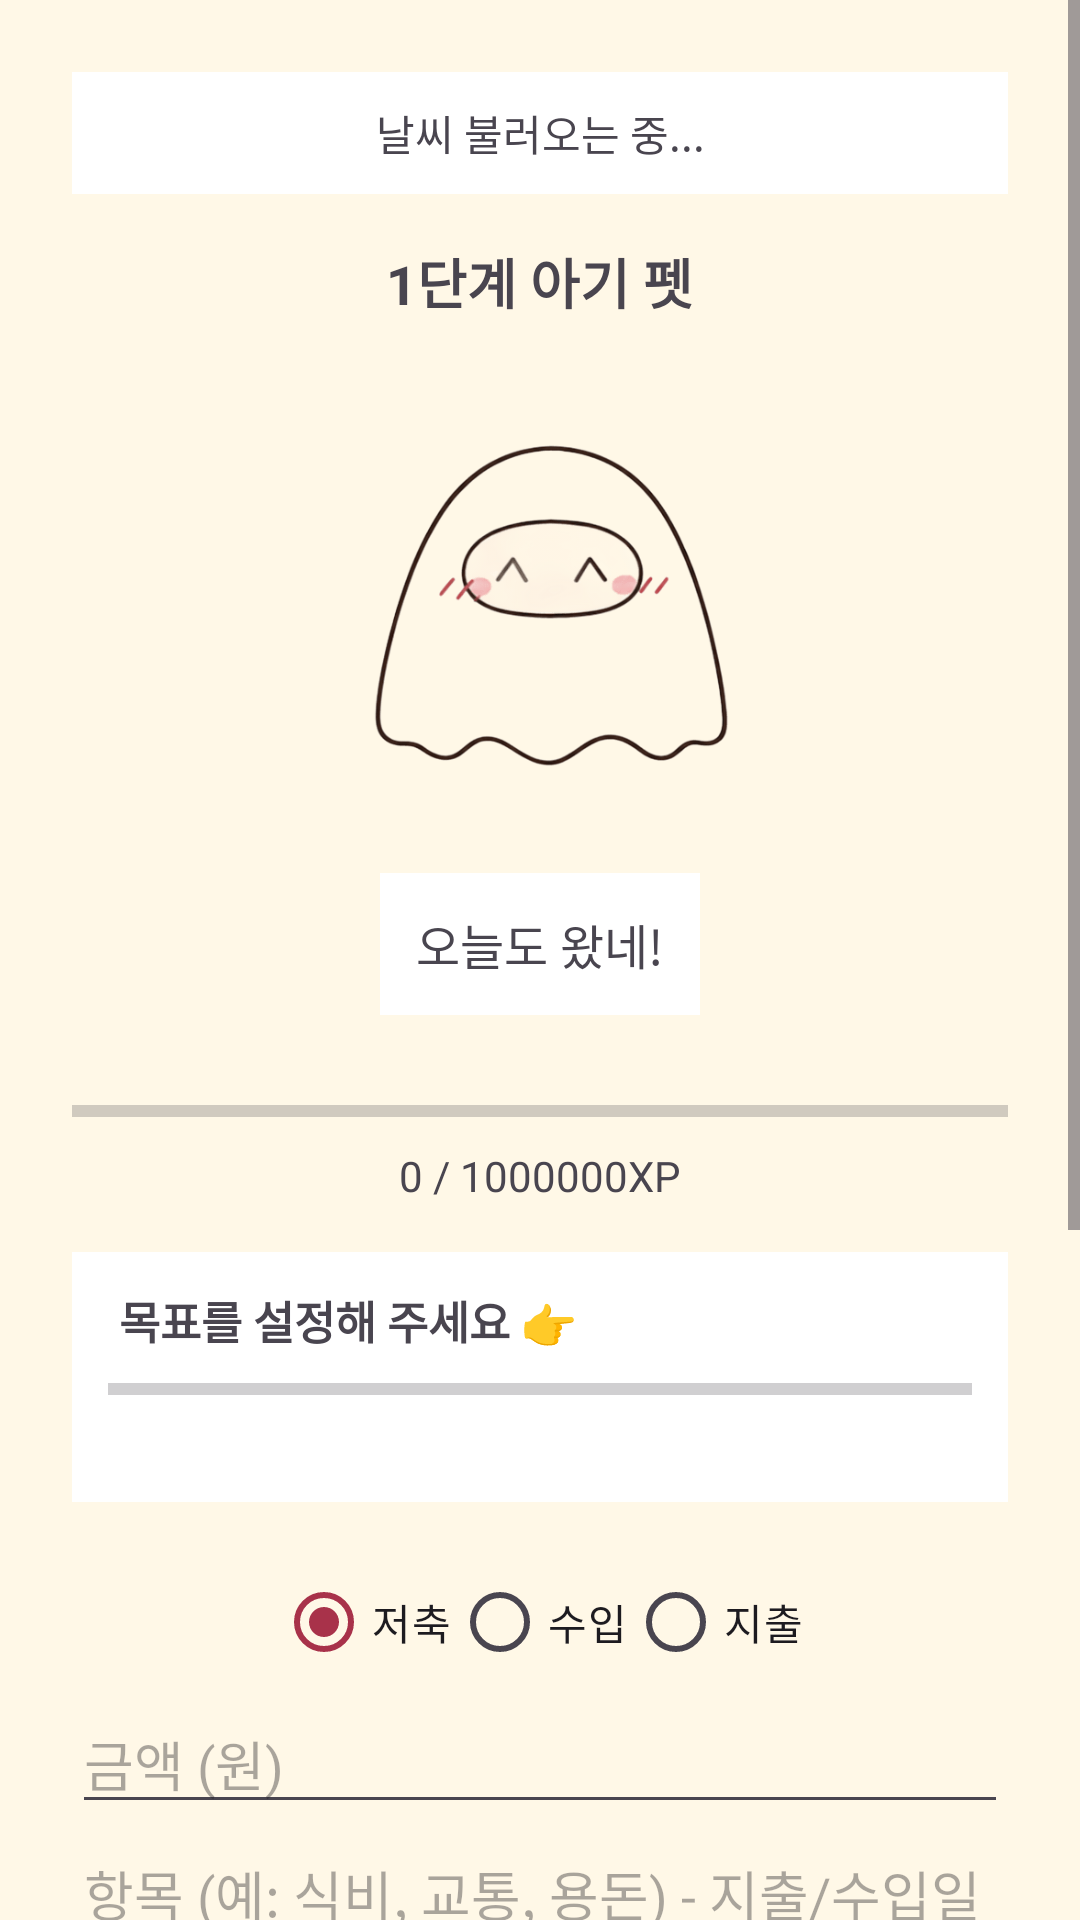

Locate icon controls on the screen. Image size 1080w x 1920h, boxes as (x1, y1, x2, y2).
pet: (375, 446, 728, 766)
